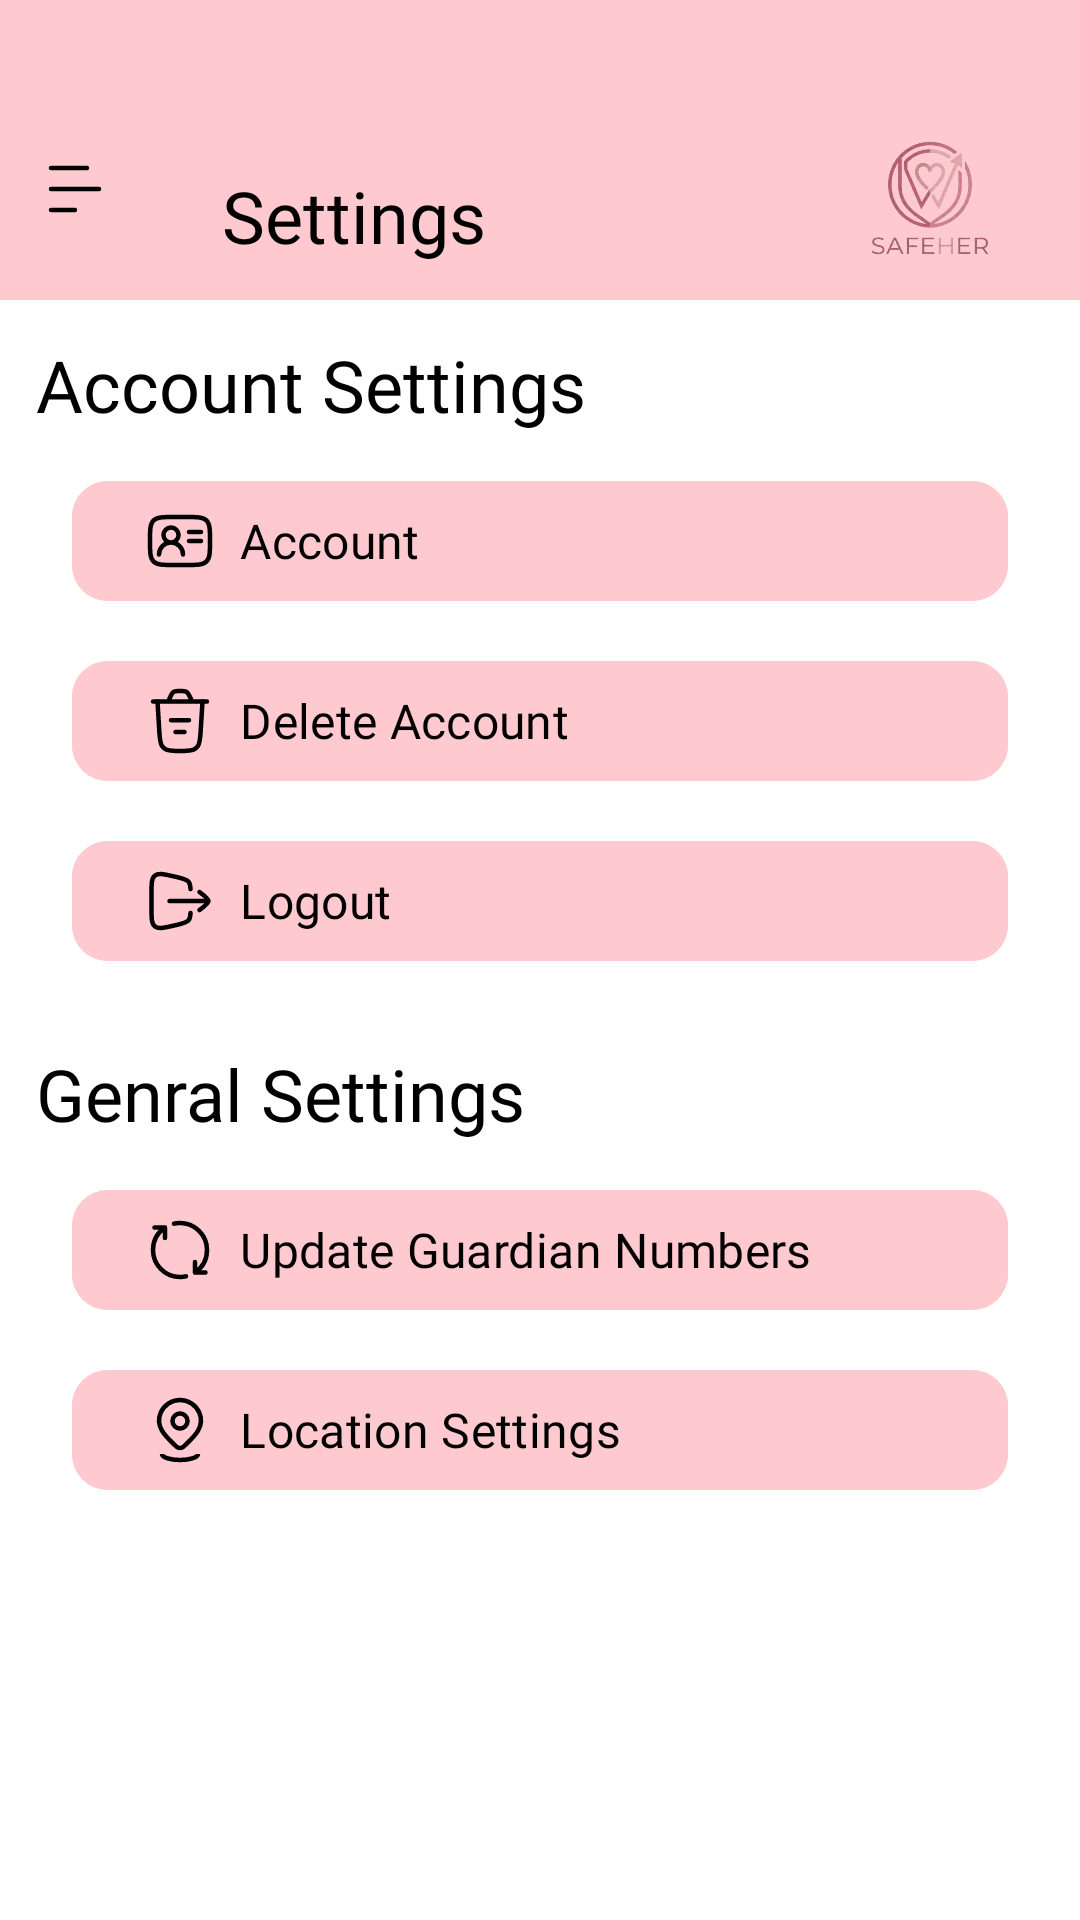

Point at icon controls on the screen. Image size 1080x1920, points as (x,y).
menu: (75,189)
